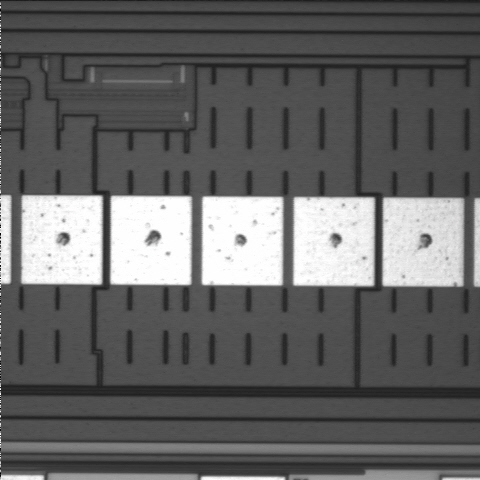pad: (110, 196, 192, 285), (21, 195, 102, 285), (202, 196, 283, 286), (293, 197, 374, 286), (383, 198, 463, 286)
